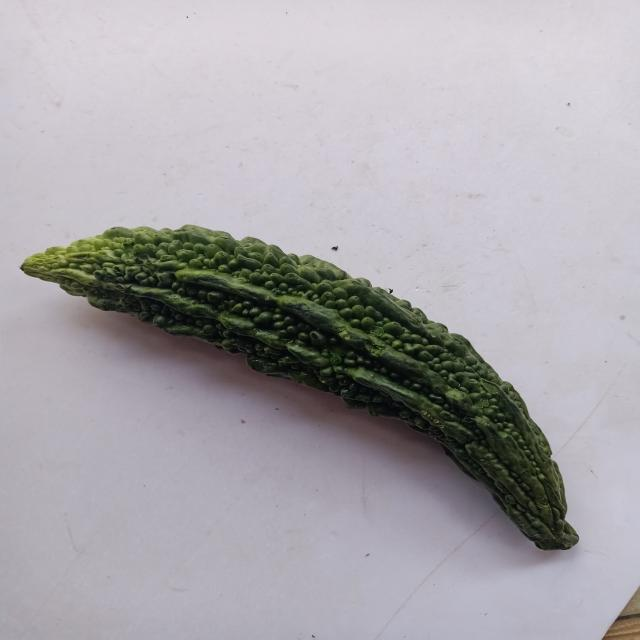Bitter Gourd: (13, 220, 604, 598)
